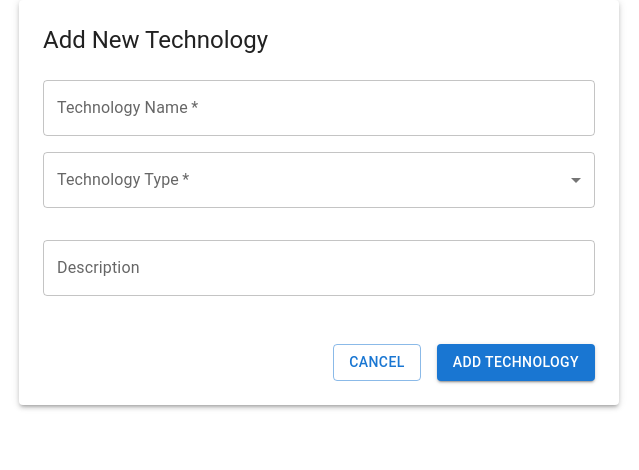
Test case: TechnologyForm › shows validation error if required fields are empty
Step 1. Click the button "Add Technology" → (516, 363), box [437,344,595,381]
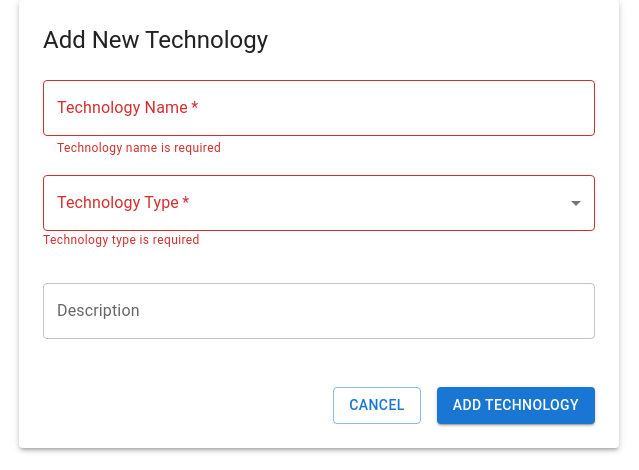
Expected: the text "Technology name is required" is shown, [57,141,221,155]
